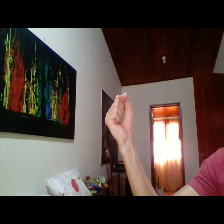9D: (102, 90, 138, 145)
